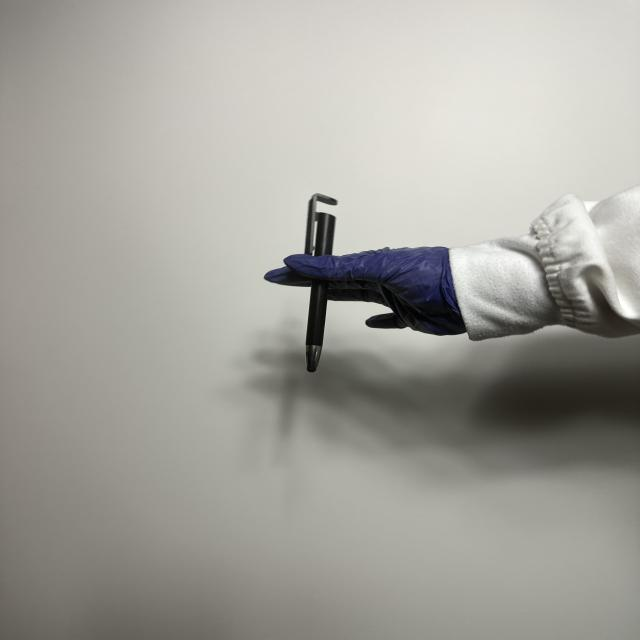gloves_contaminated: (265, 247, 466, 335)
